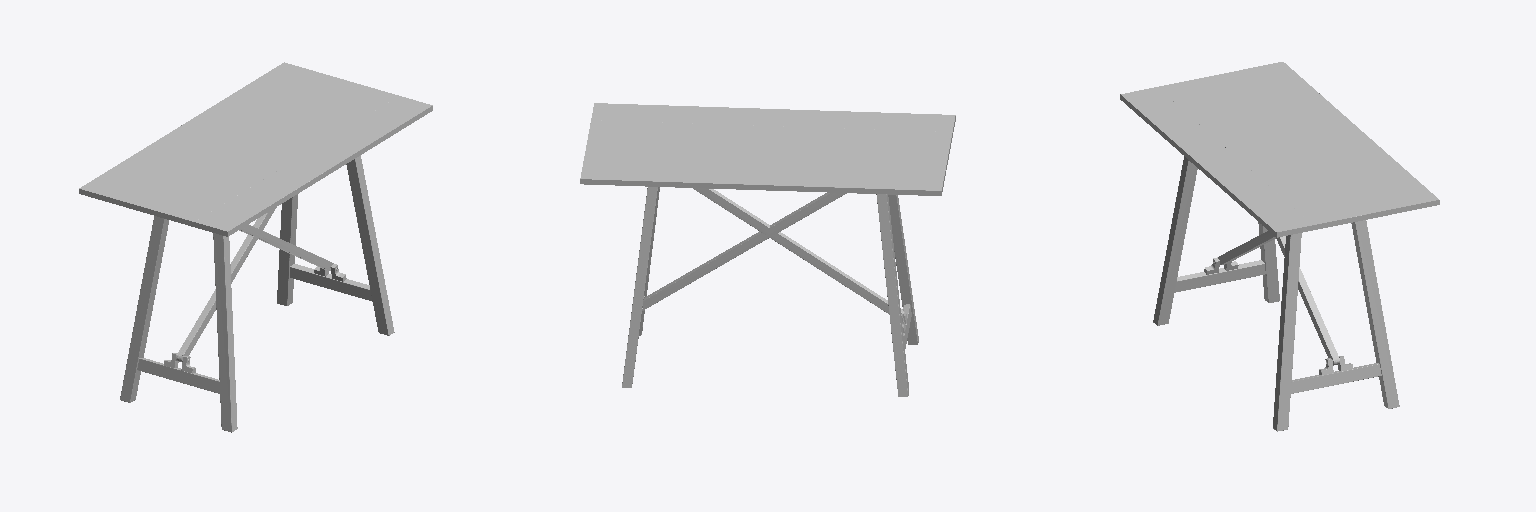
Rendered from Table Trestle N080519.obj.
3 views of the same model, side by side, from view 1: azimuth 30°, elevation 25°; view 2: azimuth 150°, elevation 25°; view 3: azimuth 270°, elevation 25° (orthographic).
Parts seen in each view (by area): view 1: Box005, Object001, Box001, Box007, Box013, Box012, Box011, Box014, Box006, Box015; view 2: Box005, Object001, Box007, Box011, Box015, Box012, Box001; view 3: Box005, Object001, Box013, Box012, Box001, Box006, Box014, Box015, Box007, Box011.
Part boxes in pixels (left/top/right/bottom): Box005: left=79, top=62, right=398, bottom=226; Object001: left=187, top=96, right=432, bottom=236; Box001: left=213, top=233, right=237, bottom=432; Box007: left=120, top=216, right=168, bottom=402; Box013: left=346, top=155, right=394, bottom=335; Box012: left=277, top=194, right=297, bottom=305; Box011: left=176, top=207, right=276, bottom=361; Box014: left=290, top=264, right=372, bottom=301; Box006: left=137, top=358, right=219, bottom=393; Box015: left=239, top=224, right=333, bottom=270; Box005: left=580, top=120, right=952, bottom=195; Object001: left=591, top=103, right=955, bottom=135; Box007: left=876, top=194, right=908, bottom=396; Box011: left=693, top=188, right=904, bottom=317; Box015: left=642, top=193, right=846, bottom=310; Box012: left=622, top=187, right=657, bottom=387; Box001: left=888, top=195, right=918, bottom=344; Box005: left=1158, top=62, right=1439, bottom=229; Object001: left=1120, top=87, right=1320, bottom=237; Box013: left=1273, top=233, right=1301, bottom=431; Box012: left=1351, top=220, right=1399, bottom=408; Box001: left=1153, top=156, right=1197, bottom=325; Box006: left=1175, top=260, right=1265, bottom=292; Box014: left=1291, top=363, right=1381, bottom=393; Box015: left=1276, top=236, right=1339, bottom=365; Box007: left=1258, top=222, right=1279, bottom=302; Box011: left=1218, top=231, right=1275, bottom=264.
Size of the model in its own units: 154 by 91.71 by 122.